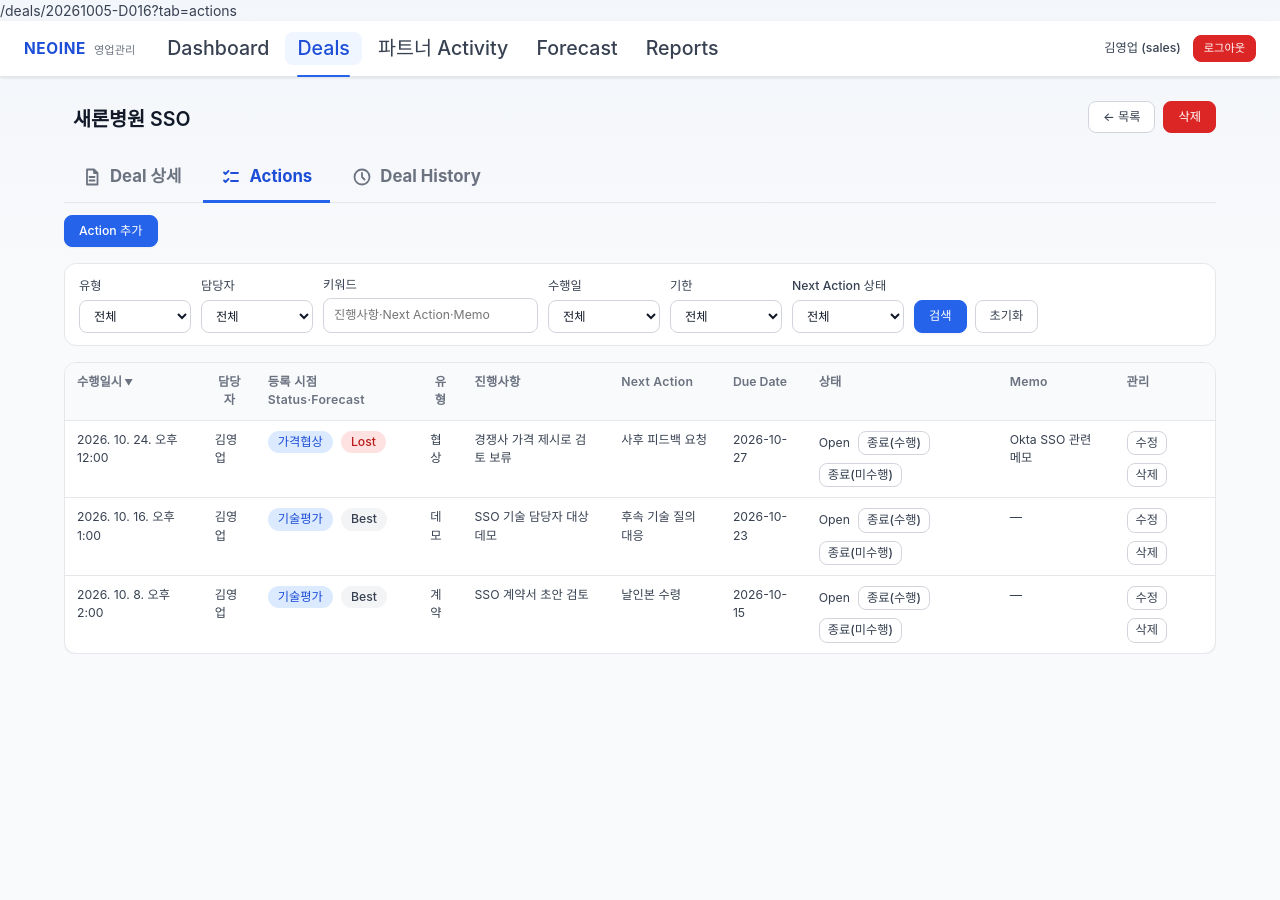
Test: 두 번째 변경이 첫 변경과 충돌 (AC-16) › blocks_a_conflicting_choice_after_the_dialog
Expected: the heading "새론병원 SSO" is shown, [64,101,200,138]
Click the button "Action 추가" at (111, 231), box [64,215,158,247]
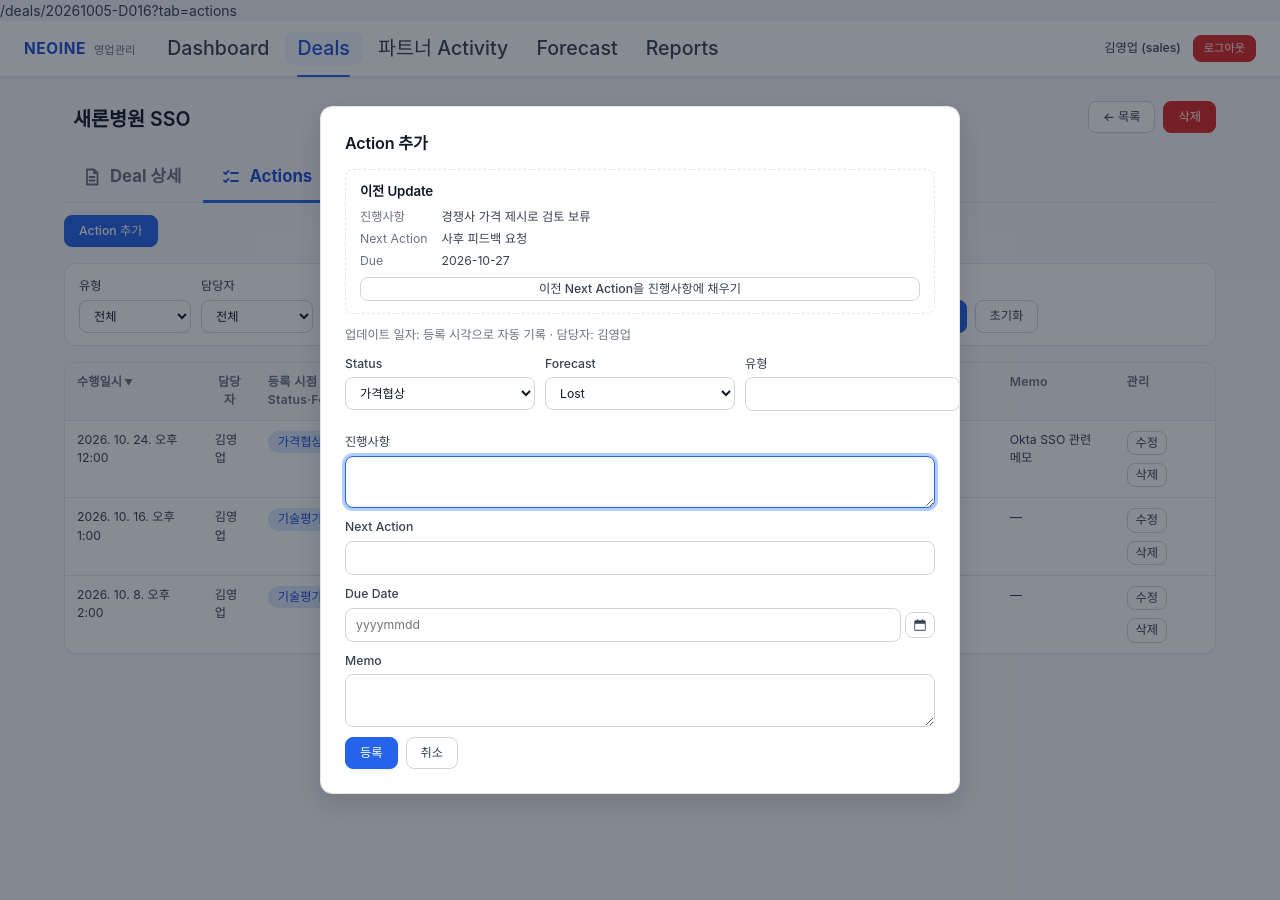
Select "기술평가" in the dropdown labelled "Status" at (440, 393), box [345,377,535,410]
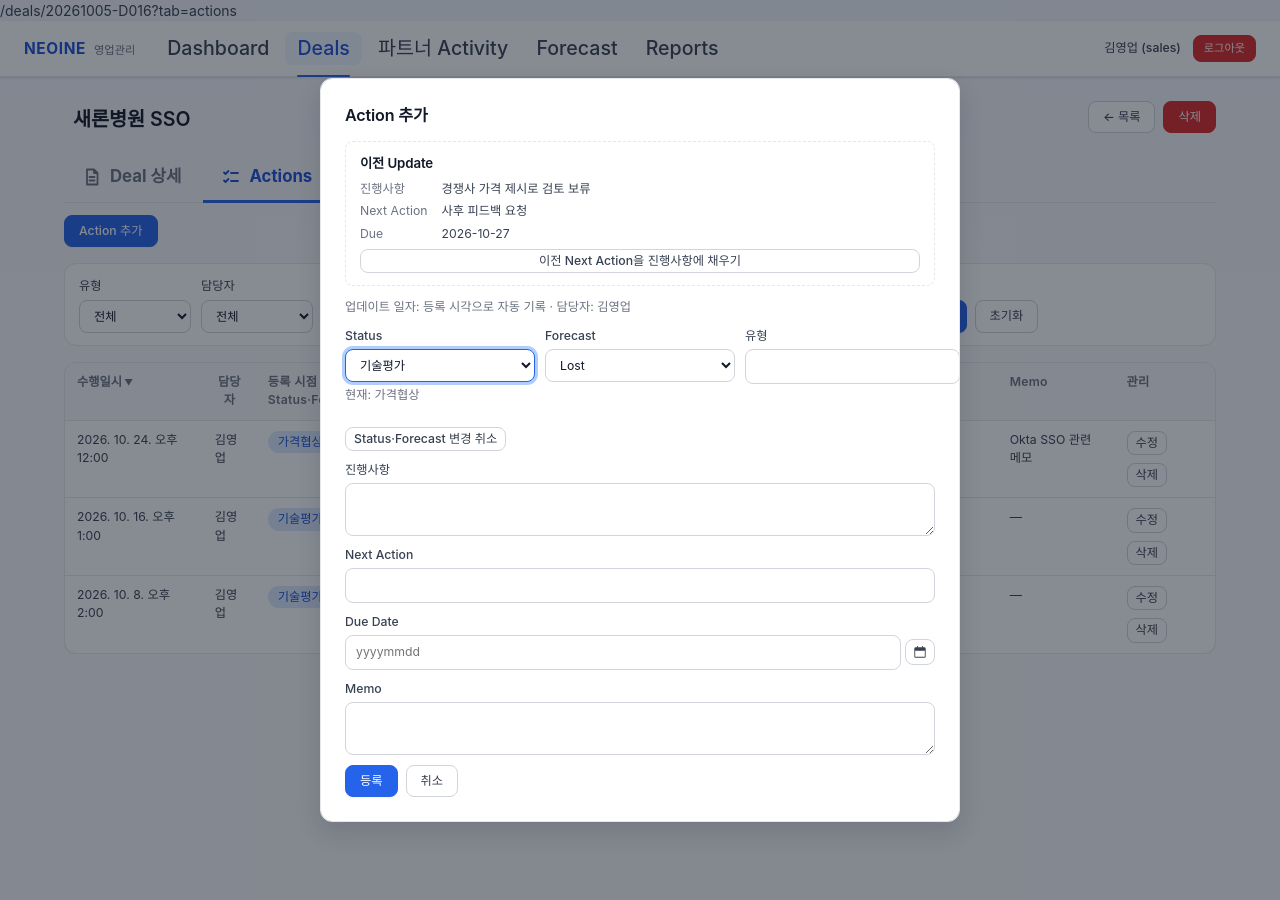
Select "Commit" in the dropdown labelled "Forecast" at (640, 366), box [545,349,735,382]
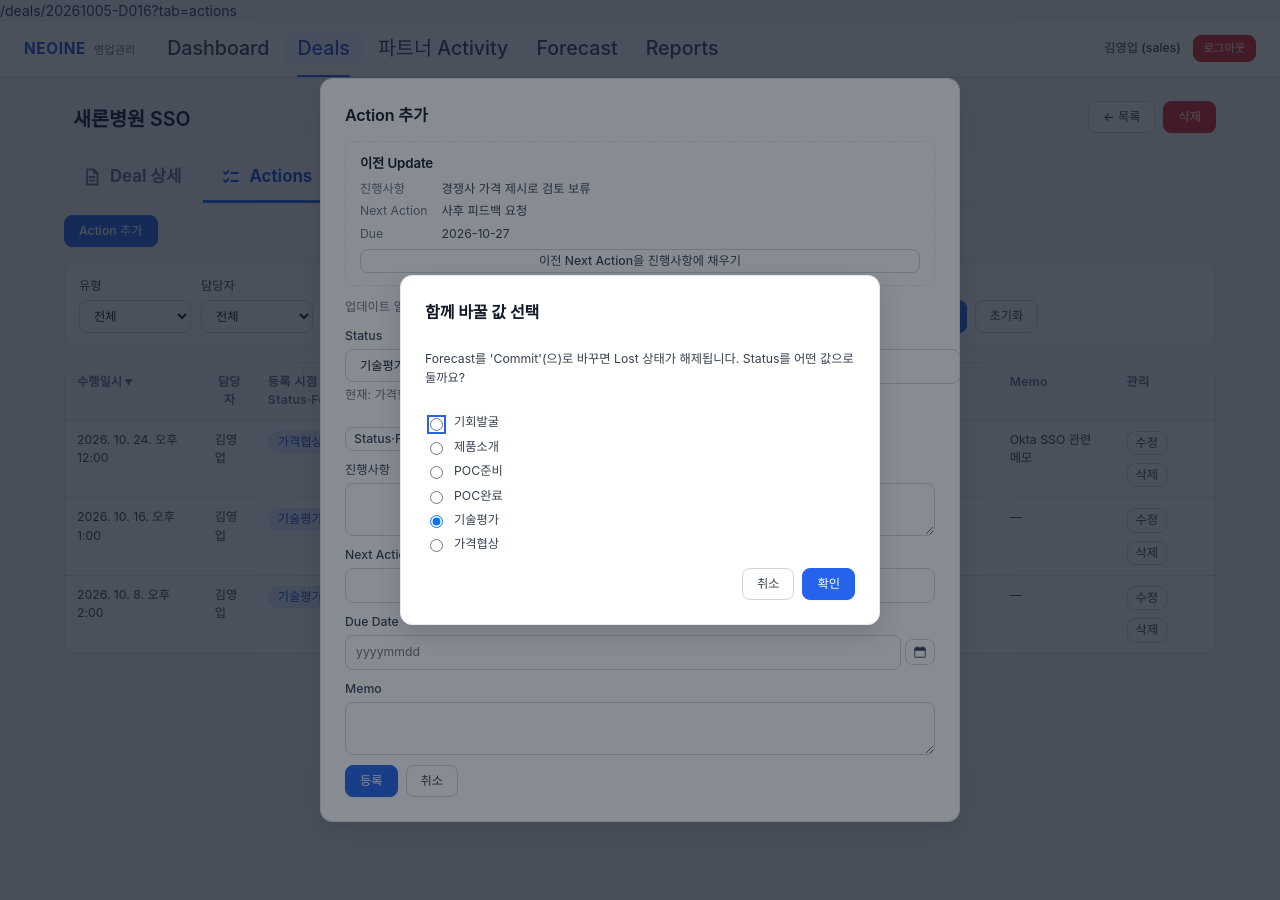
Click the radio button labelled "가격협상" at (436, 546), box [430,539,443,552]
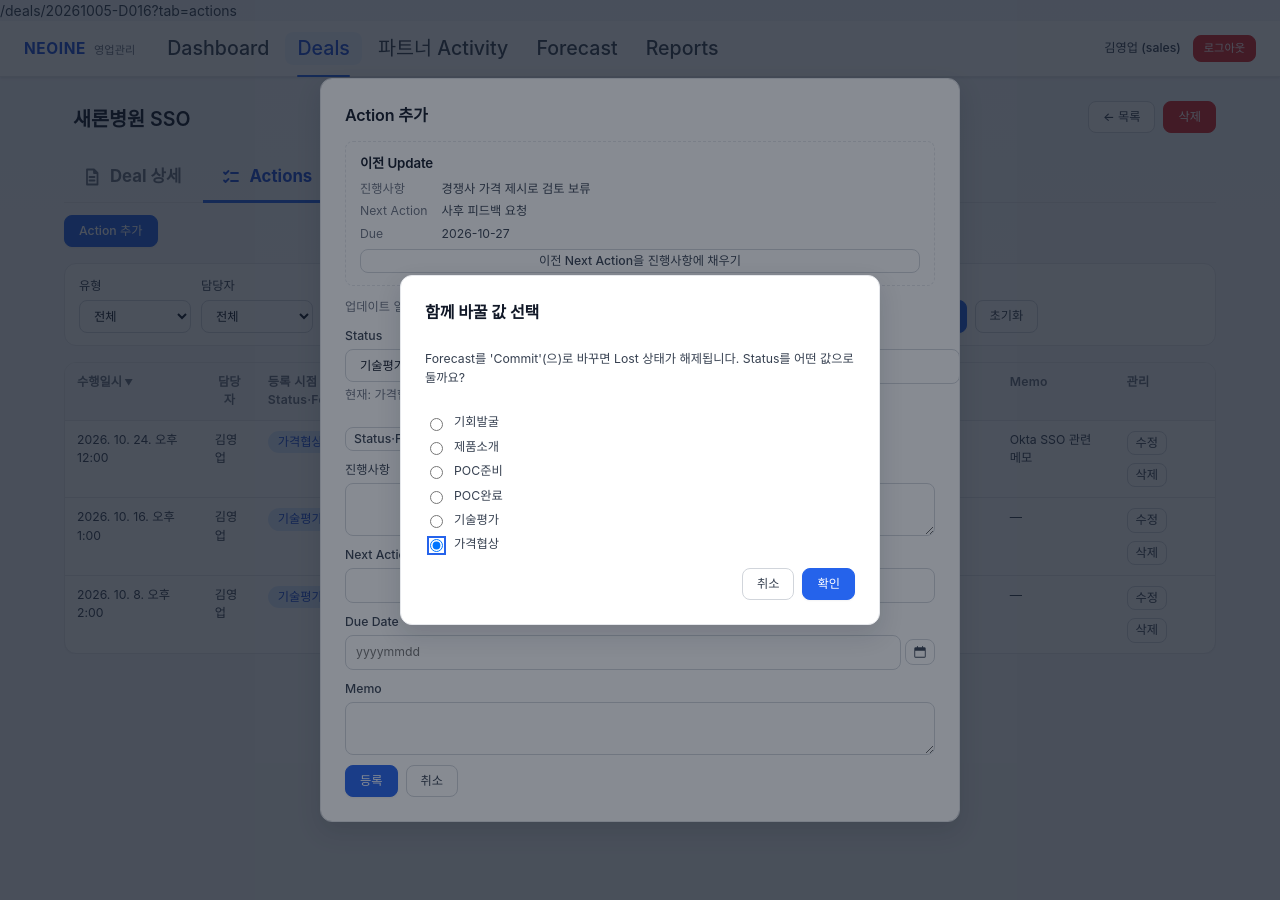
Click the button "확인" at (829, 584), box [802,568,855,600]
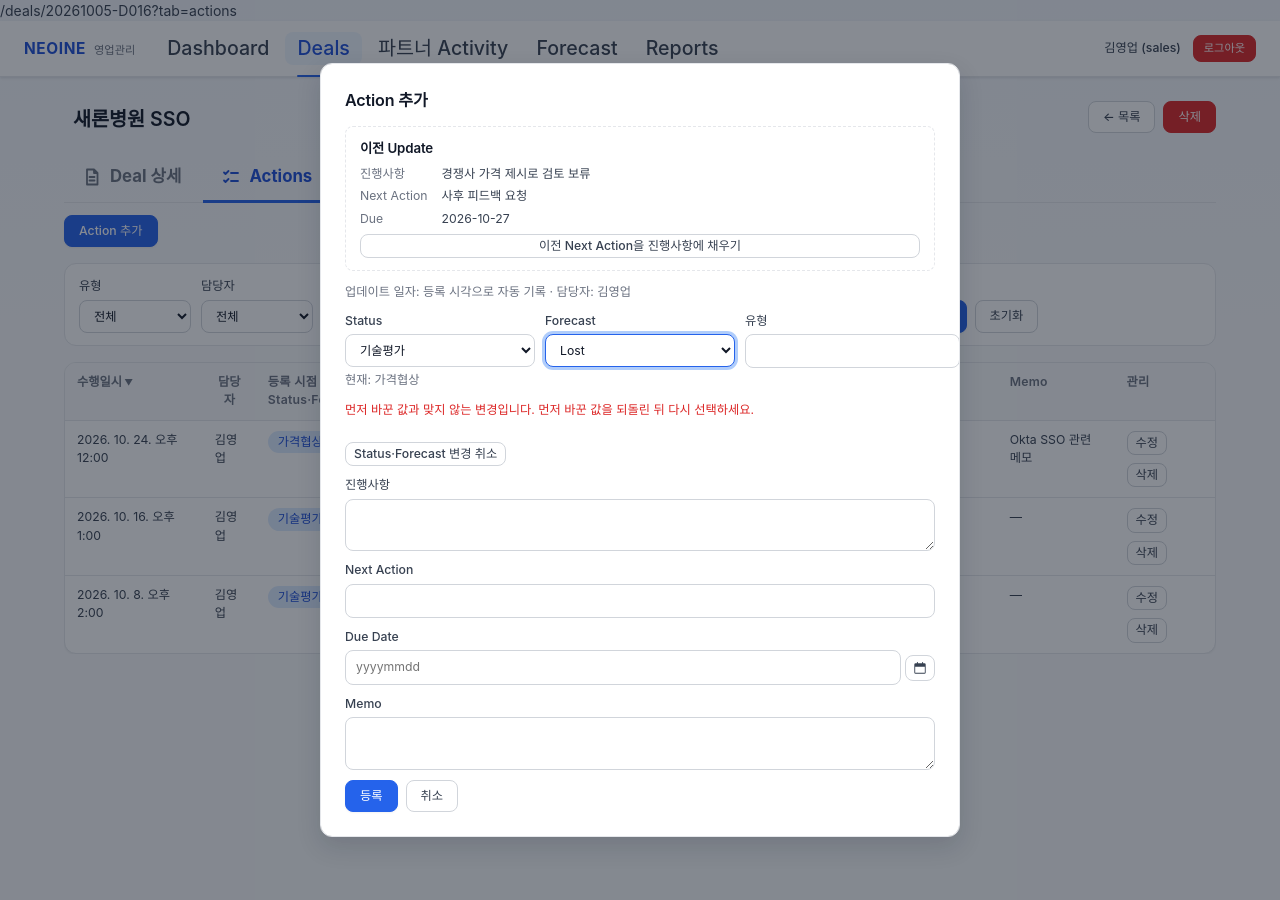
Now the number of dialogs is 1, box [320,63,960,837]
